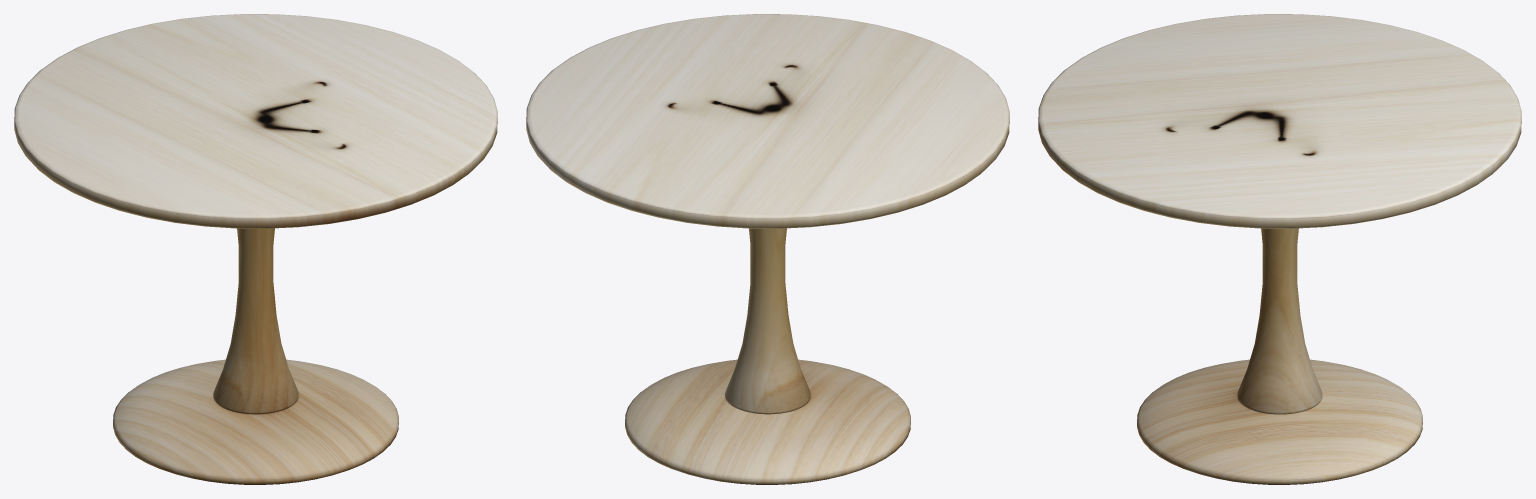
The picture shows the model from 3 angles, left to right: view 1: azimuth 30°, elevation 25°; view 2: azimuth 150°, elevation 25°; view 3: azimuth 270°, elevation 25°; orthographic projection.
Parts seen in each view (by area): view 1: nd104; view 2: nd104; view 3: nd104.
Part boxes in pixels (x1,y1,x2,y2): nd104: (14,14,497,484); nd104: (526,14,1009,484); nd104: (1038,14,1521,484).
Bounding box in the file's own units: 1.17 × 0.8321 × 1.17.
1 material, 1 textured.
